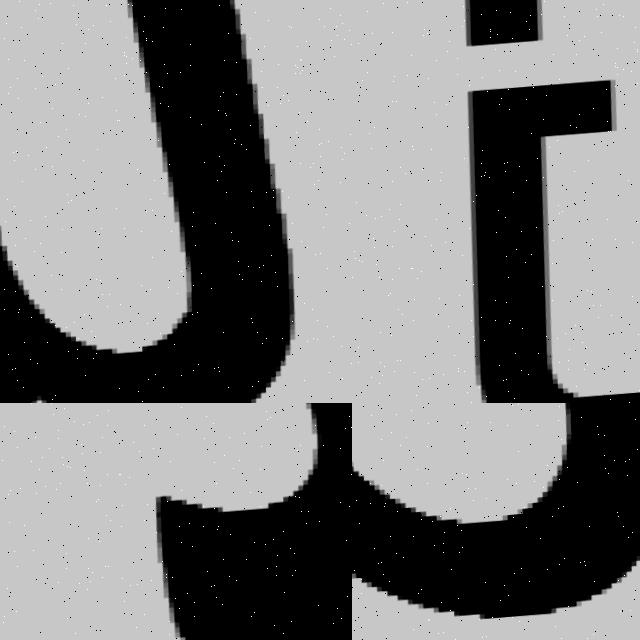C: (0, 403, 352, 640)
J: (429, 0, 640, 403)
O: (352, 403, 640, 622)
U: (0, 0, 331, 403)
